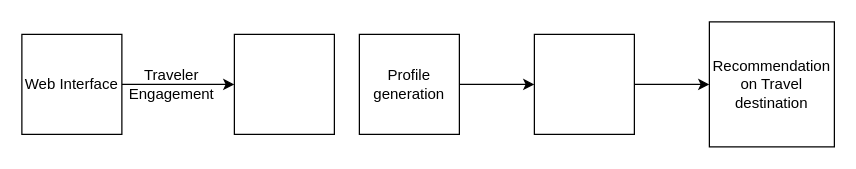
The diagram is 856 pixels wide and 169 high, and some of its shapes have lost their labels. The shapes that lost their labels are listed below. From the top down, each one's centre as x and y in pixels, then its label:
At point (283, 83): "Taking survey".
At point (583, 83): "Decision making".
